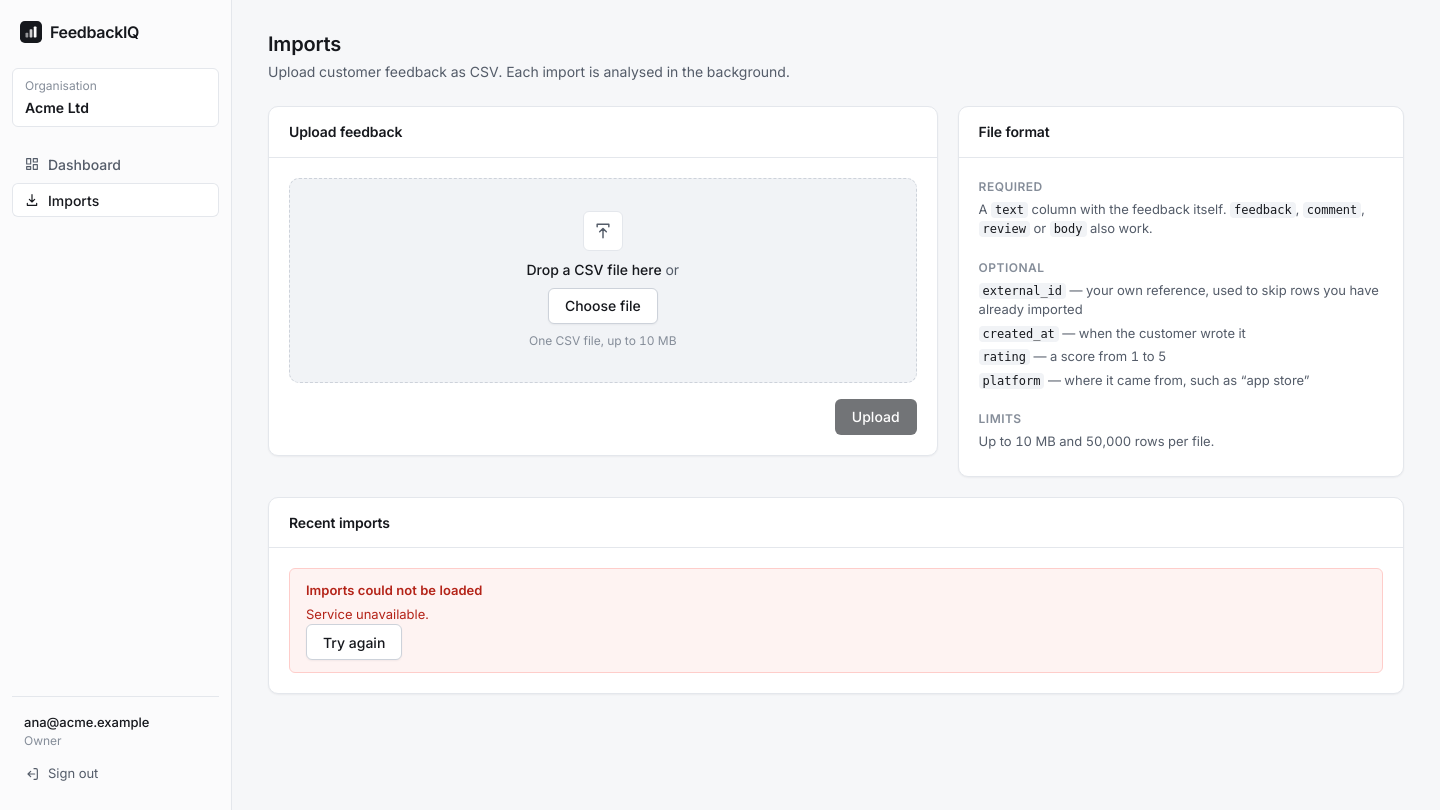
Scenario: import history › offers a retry when the list cannot be loaded
This screenshot has width=1440, height=810.
Expected: the heading "Imports" is shown, [268,32,341,56]
Expected: the text "Imports could not be loaded" is shown, [306,582,482,598]
Click the button "Try again".
click(354, 642)  # box [306,624,402,660]
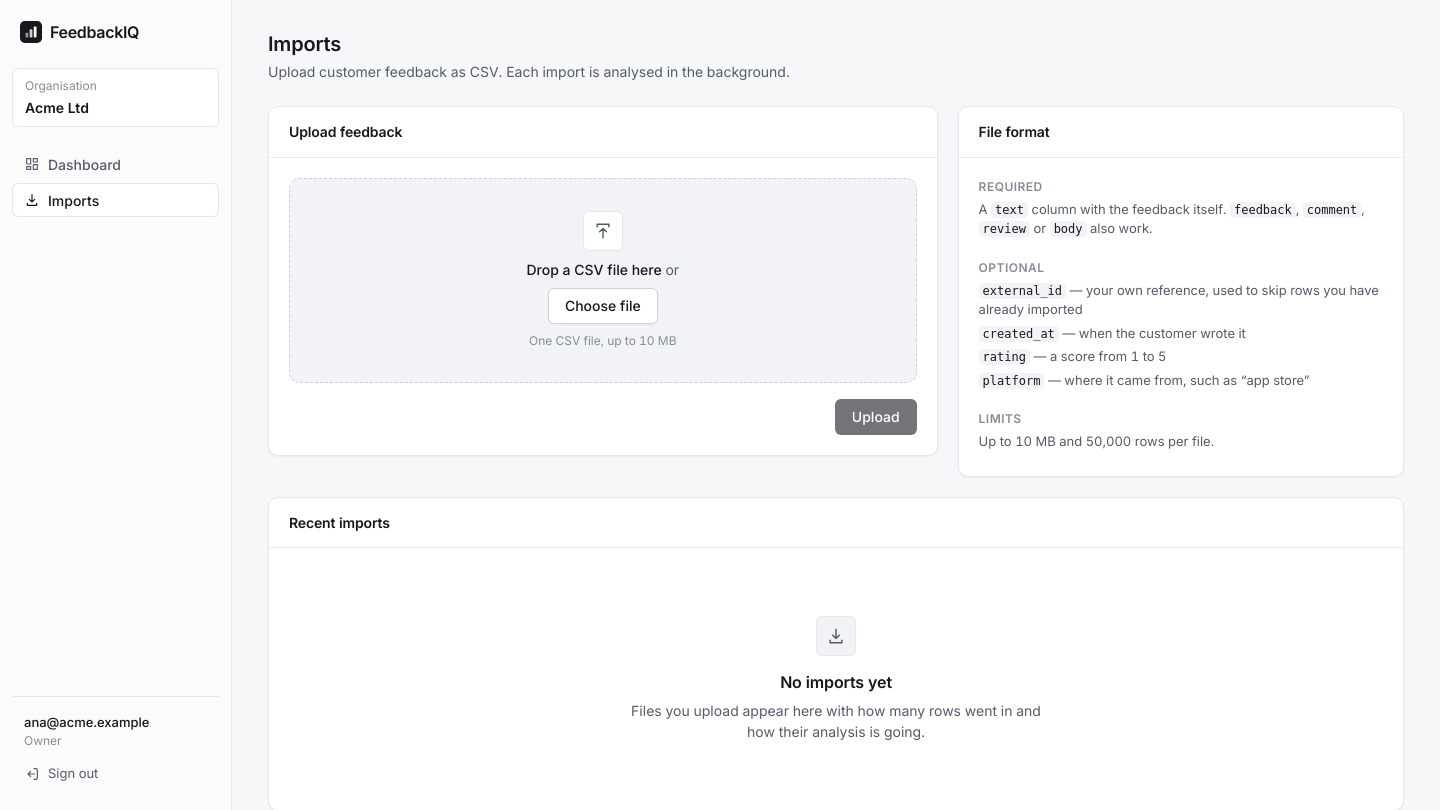
Expected: the heading "No imports yet" is shown, [780,672,892,692]
